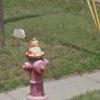Hydrant: (19, 31, 53, 100)
